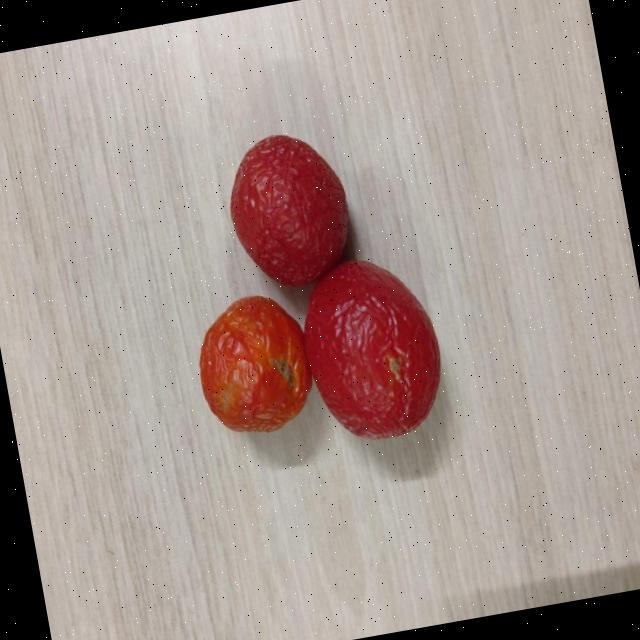overripe: (292, 256, 460, 454), (210, 120, 360, 292), (182, 284, 320, 441)
